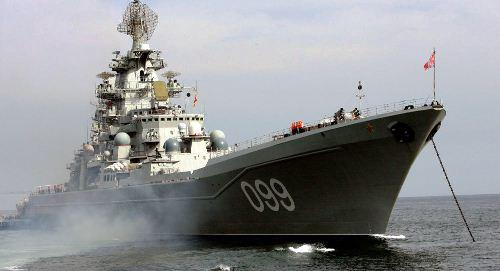MIL_Ship: (21, 0, 448, 236)
